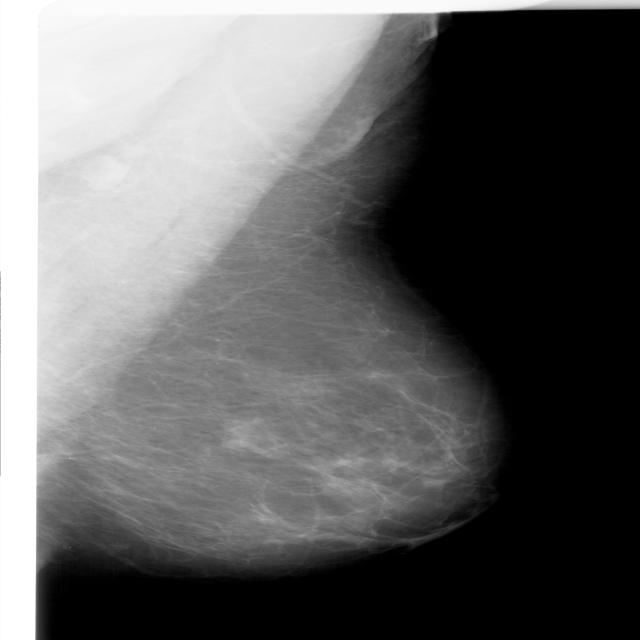normal: (0, 0, 510, 583)
